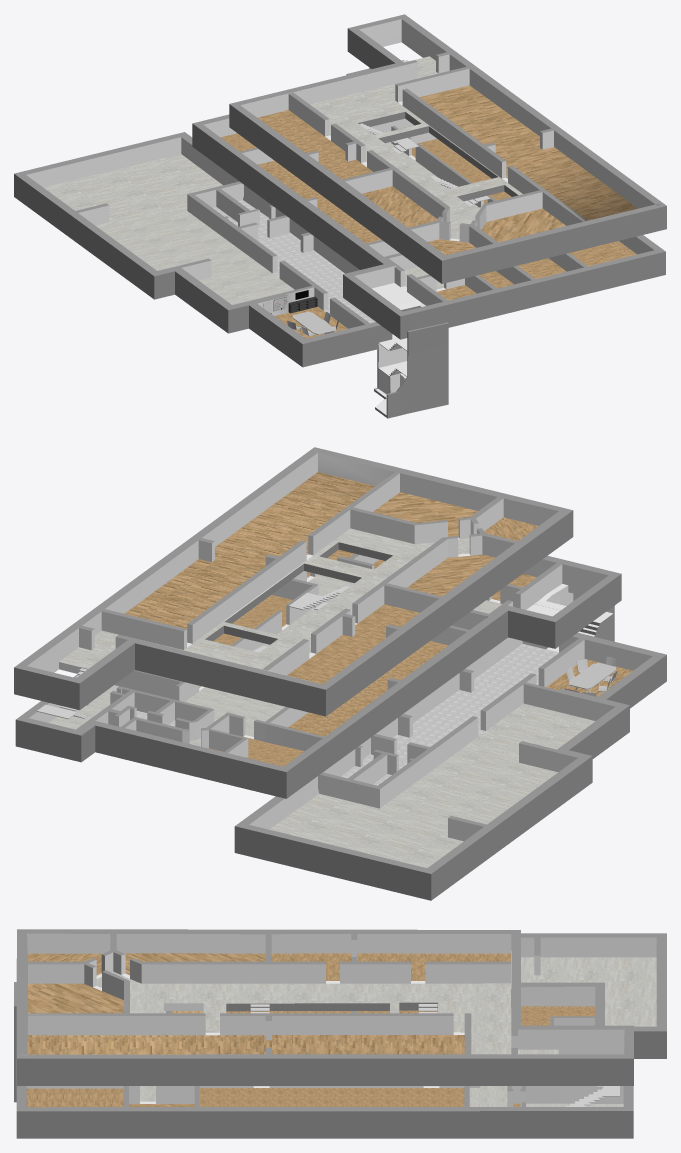
Rendered from NewModel.fbx.
The picture shows the model from 3 angles, top to bottom: view 1: azimuth 30°, elevation 25°; view 2: azimuth 150°, elevation 25°; view 3: azimuth 270°, elevation 25°; orthographic projection. The views are drawn at different scales.
Visible parts, largest first — view 1: 4э-Основа, 2э-Основание, 3э-Основа, 2э-Стены, 1э-Лестница; view 2: 4э-Основа, 2э-Основание, 3э-Основа, 2э-Стены, 1э-Лестница, Стол; view 3: 4э-Основа, 3э-Основа, 2э-Основание, 3э-Запасная-Лсетница, 1э-Лестница.
Boxes of the visible parts, x1=… form: 4э-Основа: x1=229, y1=14, x2=666, y2=283; 2э-Основание: x1=14, y1=132, x2=397, y2=367; 3э-Основа: x1=192, y1=60, x2=665, y2=339; 2э-Стены: x1=75, y1=181, x2=369, y2=328; 1э-Лестница: x1=374, y1=300, x2=448, y2=418; 4э-Основа: x1=14, y1=447, x2=573, y2=716; 2э-Основание: x1=234, y1=632, x2=666, y2=900; 3э-Основа: x1=15, y1=549, x2=621, y2=798; 2э-Стены: x1=318, y1=638, x2=597, y2=841; 1э-Лестница: x1=534, y1=584, x2=614, y2=647; Стол: x1=568, y1=662, x2=616, y2=689; 4э-Основа: x1=17, y1=929, x2=633, y2=1085; 3э-Основа: x1=16, y1=959, x2=633, y2=1138; 2э-Основание: x1=521, y1=933, x2=666, y2=1058; 3э-Запасная-Лсетница: x1=565, y1=1086, x2=619, y2=1106; 1э-Лестница: x1=14, y1=982, x2=16, y2=1102.
Size of the model in its own units: 3054 by 1118 by 3885.
